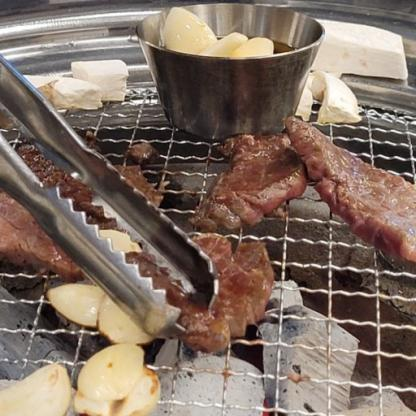Carne: (292, 108, 415, 262), (192, 136, 311, 238)
